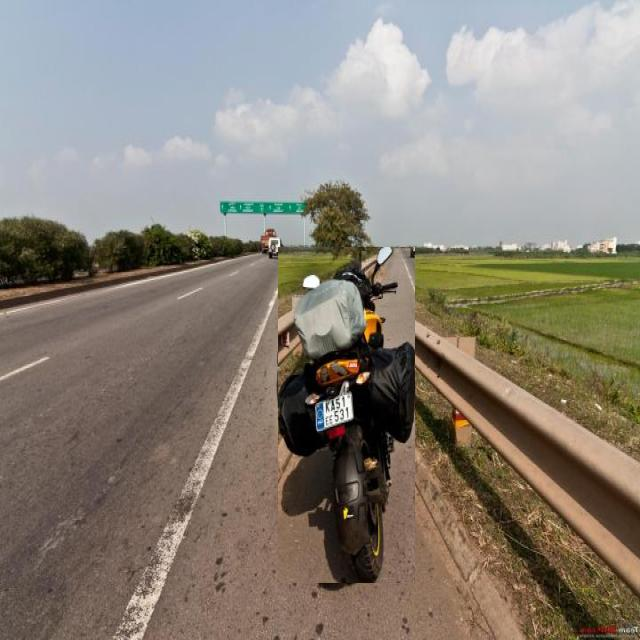motorcycle: (278, 247, 415, 583)
